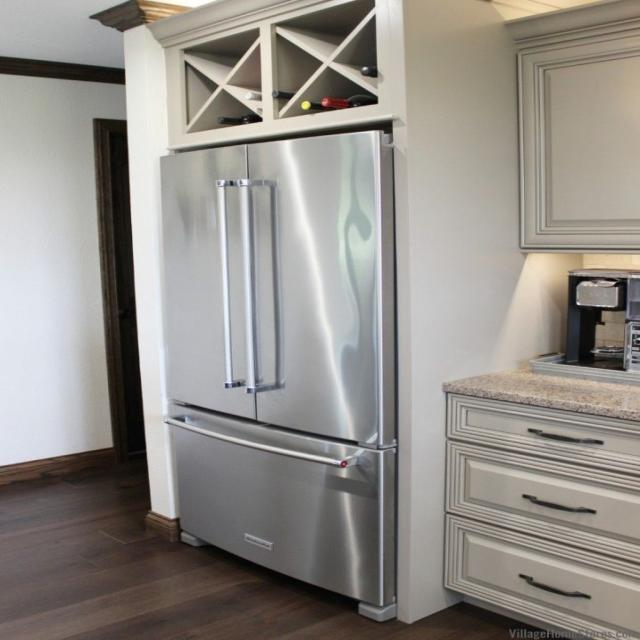obstacle: (158, 128, 398, 621), (442, 390, 640, 640), (148, 0, 405, 151), (506, 1, 639, 254)
